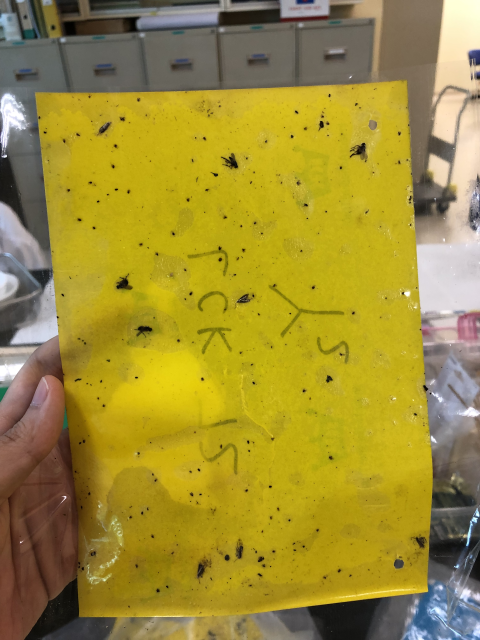DBM: (89, 119, 115, 137), (195, 561, 209, 584), (235, 291, 252, 309)
